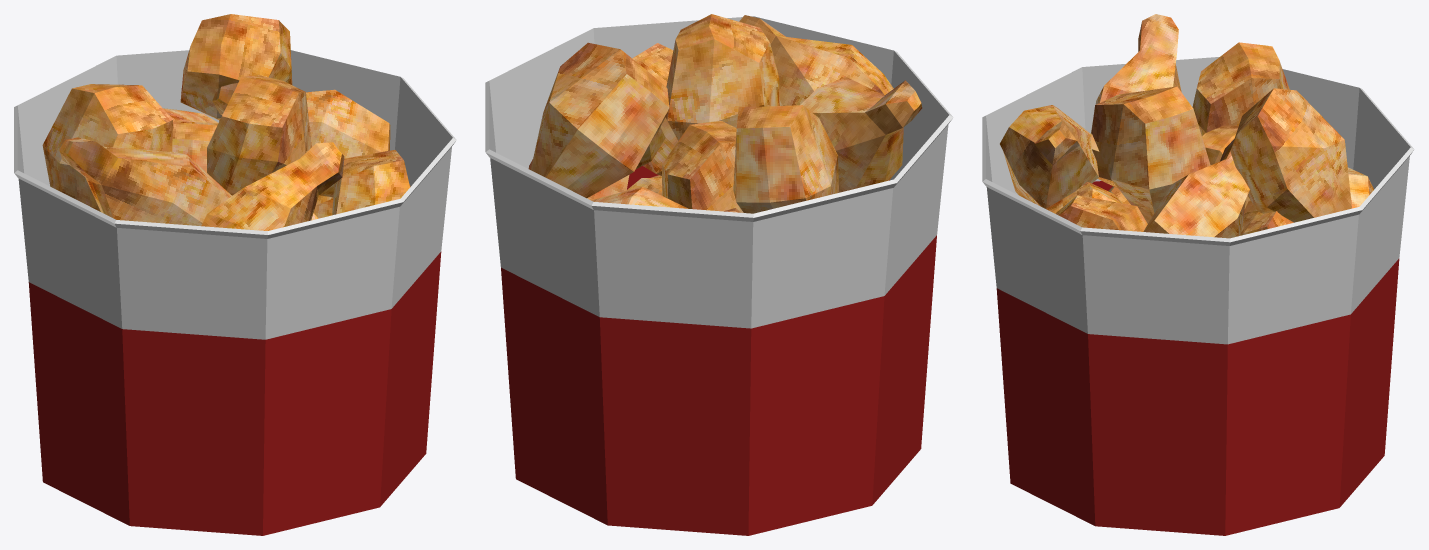
File: crispy_chicken.glb
3 views of the same model, side by side, from view 1: azimuth 30°, elevation 25°; view 2: azimuth 150°, elevation 25°; view 3: azimuth 270°, elevation 25° (orthographic). The views are drawn at different scales.
Parts seen in each view (by area): view 1: Cube; view 2: Cube; view 3: Cube.
Part boxes in pixels (x1,y1,x2,y2): Cube: (14,14,456,535); Cube: (485,14,953,535); Cube: (982,14,1414,535).
Bounding box in the file's own units: 2 × 2 × 1.97.
Materials: 3 (1 with a texture image).
